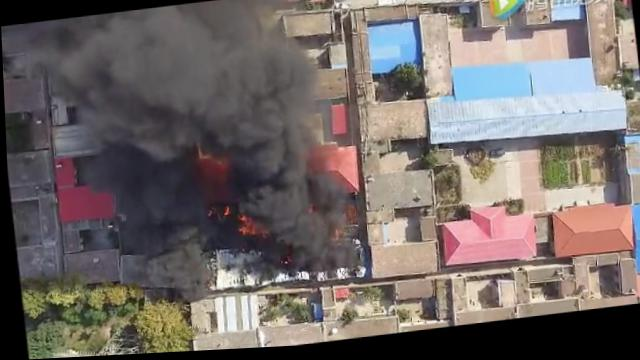fire: (234, 216, 253, 235)
